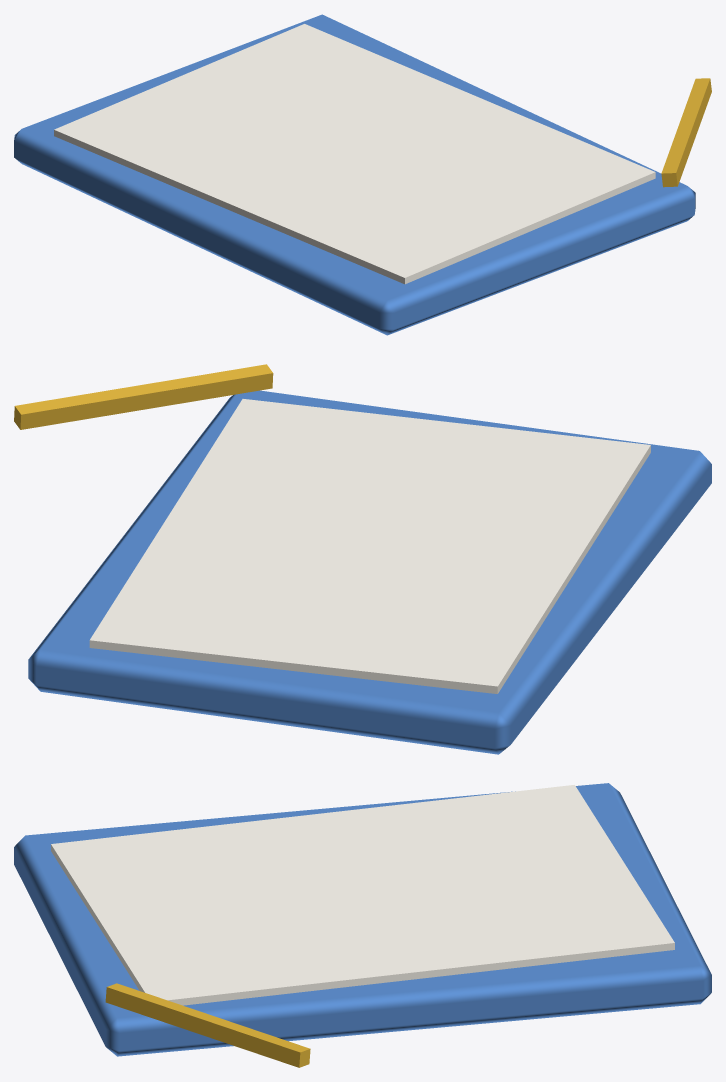
Rendered from station_special_ausstattung_1_0.glb.
3 renders of one model, top to bottom at view 1: azimuth 30°, elevation 25°; view 2: azimuth 150°, elevation 25°; view 3: azimuth 270°, elevation 25°, orthographic. The views are drawn at different scales.
Visible parts, largest first — view 1: station_special_ausstattung_1_0; view 2: station_special_ausstattung_1_0; view 3: station_special_ausstattung_1_0.
Part boxes in pixels (x1,y1,x2,y2): station_special_ausstattung_1_0: [14, 14, 711, 335]; station_special_ausstattung_1_0: [14, 364, 711, 754]; station_special_ausstattung_1_0: [14, 783, 711, 1067].
Size of the model in its own units: 0.3631 by 0.0347 by 0.3604.
